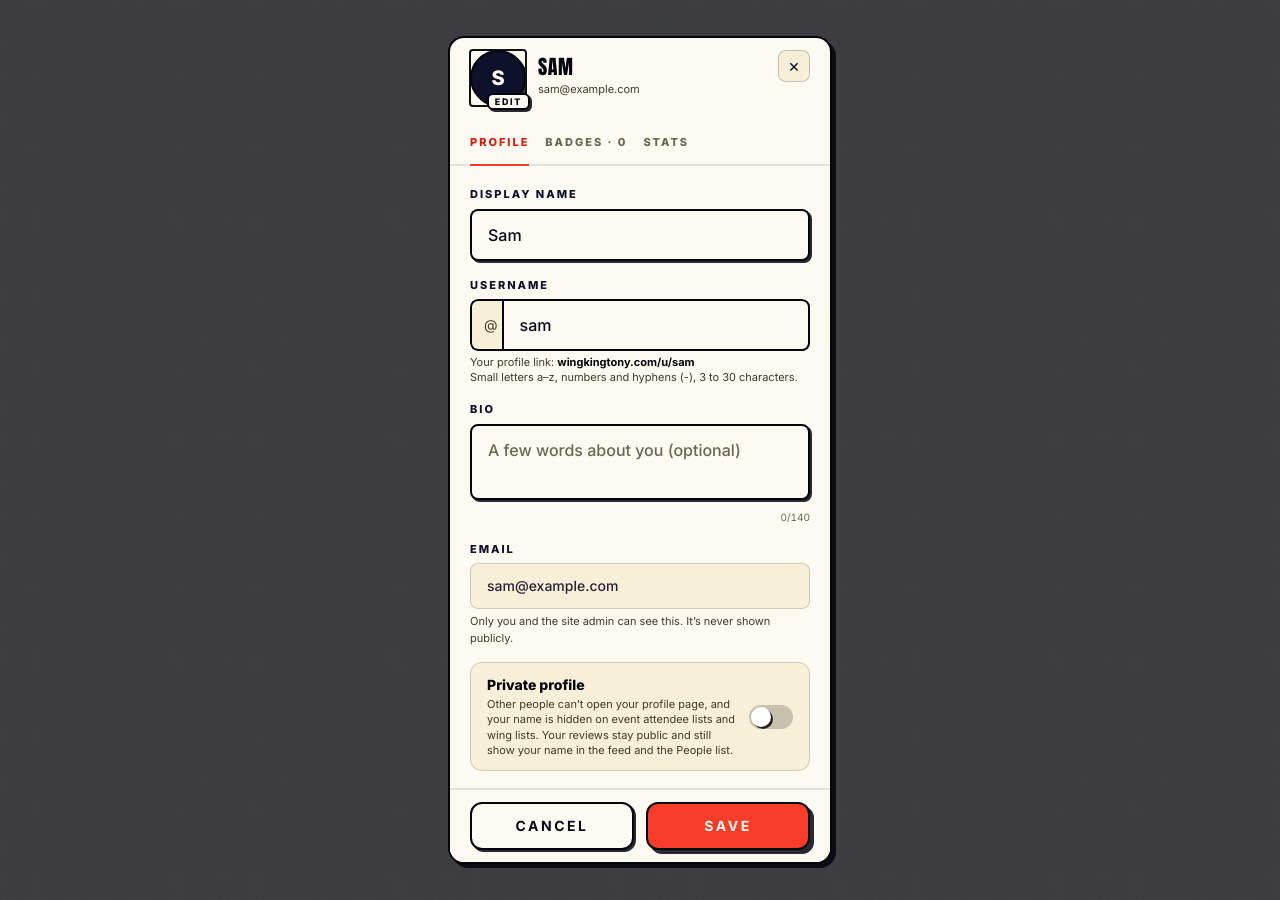
Test: ProfileModal › looks up a taken username before Save and never sends it
Replace the text in the field labelled "Username" with "tony" at x=656, y=325, box [502,299,810,351]
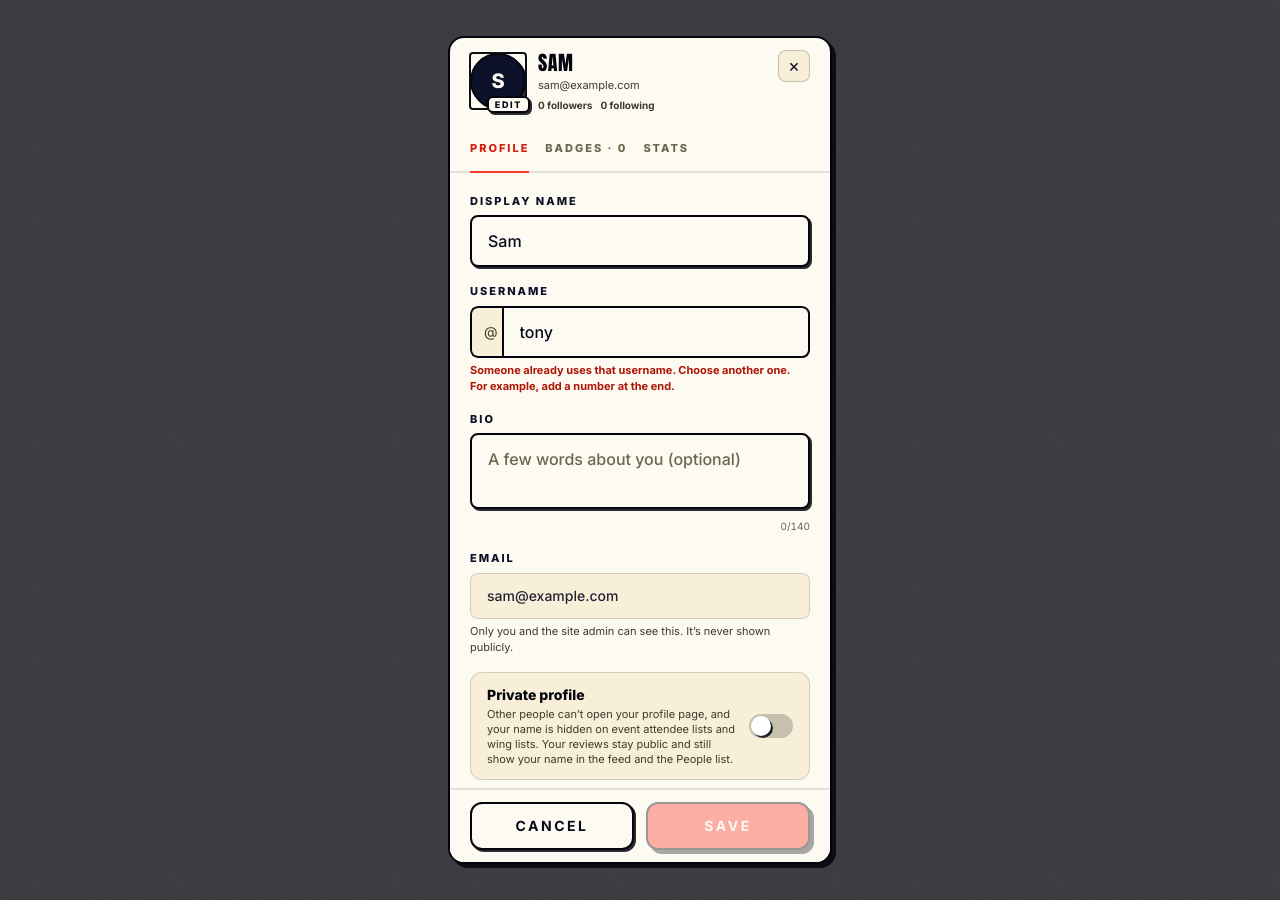
Check: the text "checking if this username is free" is shown, box [470,362,810,394]
Check: the button "Save" is disabled, box [646,802,810,850]
